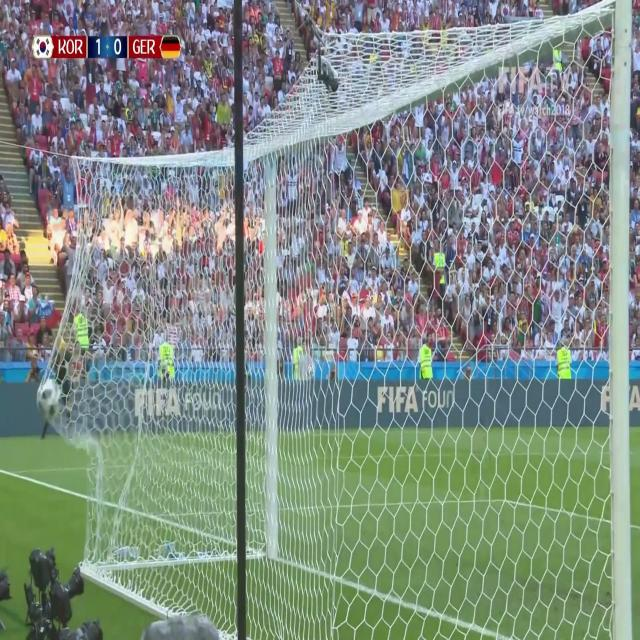ball: (36, 369, 62, 416)
